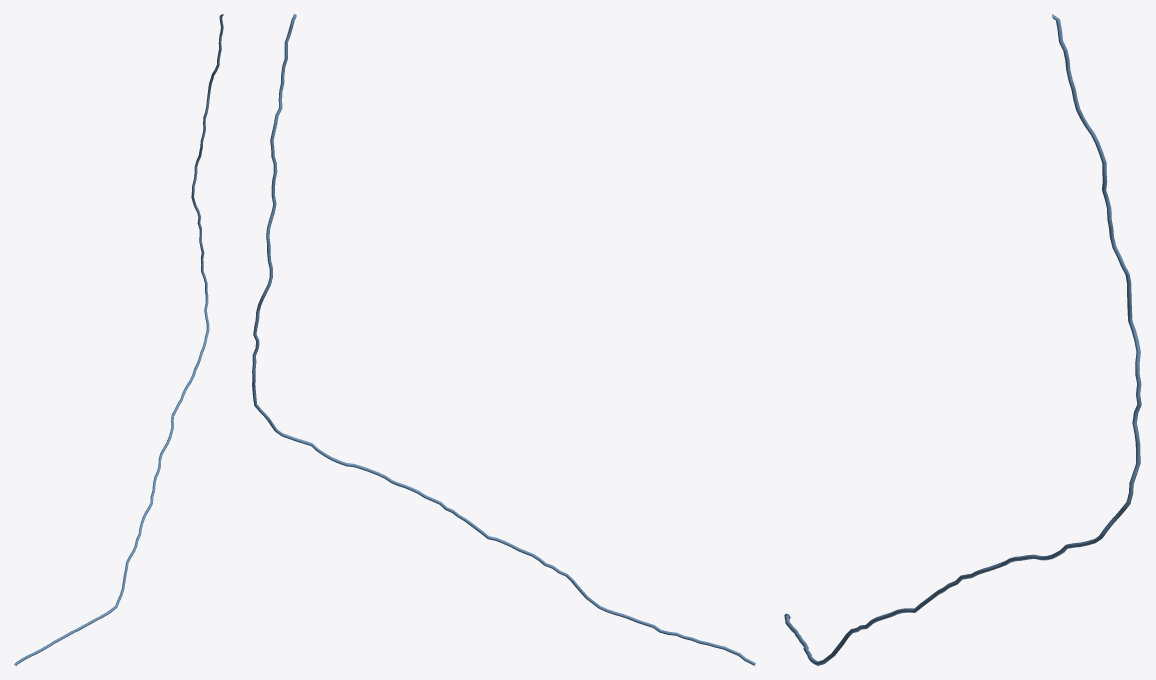
The model's file is sweep141.fbx.
3 renders of one model, left to right at view 1: azimuth 30°, elevation 25°; view 2: azimuth 150°, elevation 25°; view 3: azimuth 270°, elevation 25°, orthographic. The views are drawn at different scales.
Parts seen in each view (by area): view 1: sweep141; view 2: sweep141; view 3: sweep141.
Boxes of the visible parts, x1,y1,x2,y2 form: sweep141: [14, 14, 223, 665]; sweep141: [252, 14, 755, 665]; sweep141: [784, 14, 1141, 665].
Bounding box in the file's own units: 2.48 × 4.09 × 1.6.
